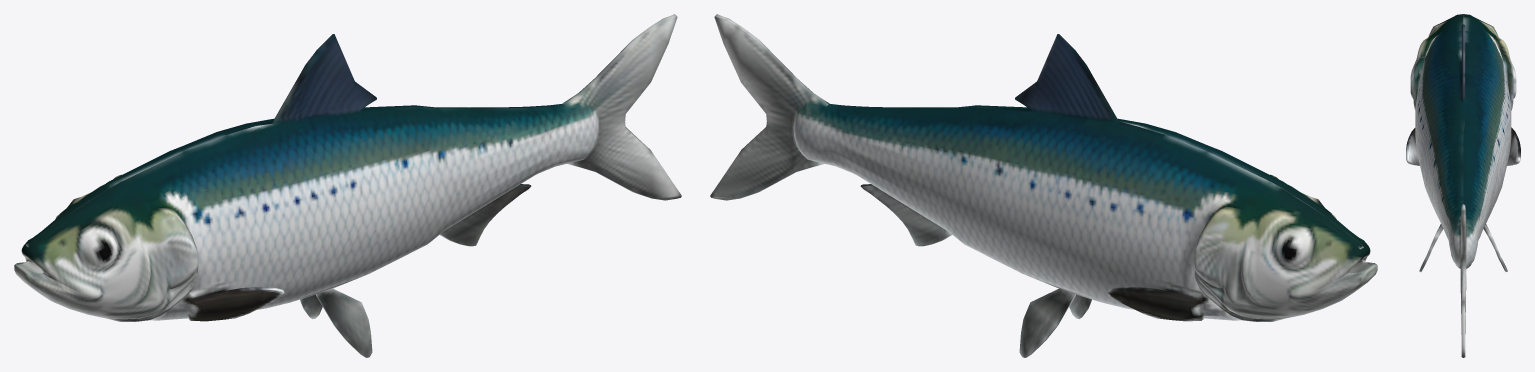
Rendered from cartoon-IhvejjO6.glb.
3 views of the same model, side by side, from view 1: azimuth 30°, elevation 25°; view 2: azimuth 150°, elevation 25°; view 3: azimuth 270°, elevation 25° (orthographic). The views are drawn at different scales.
Visible parts, largest first — view 1: texture_pbr_20250901.001; view 2: texture_pbr_20250901.001; view 3: texture_pbr_20250901.001.
Boxes of the visible parts, x1,y1,x2,y2 form: texture_pbr_20250901.001: (14,14,681,357); texture_pbr_20250901.001: (710,14,1377,357); texture_pbr_20250901.001: (1406,14,1520,357).
Size of the model in its own units: 1.52 by 0.6719 by 0.2859.
1 material, 1 textured.
